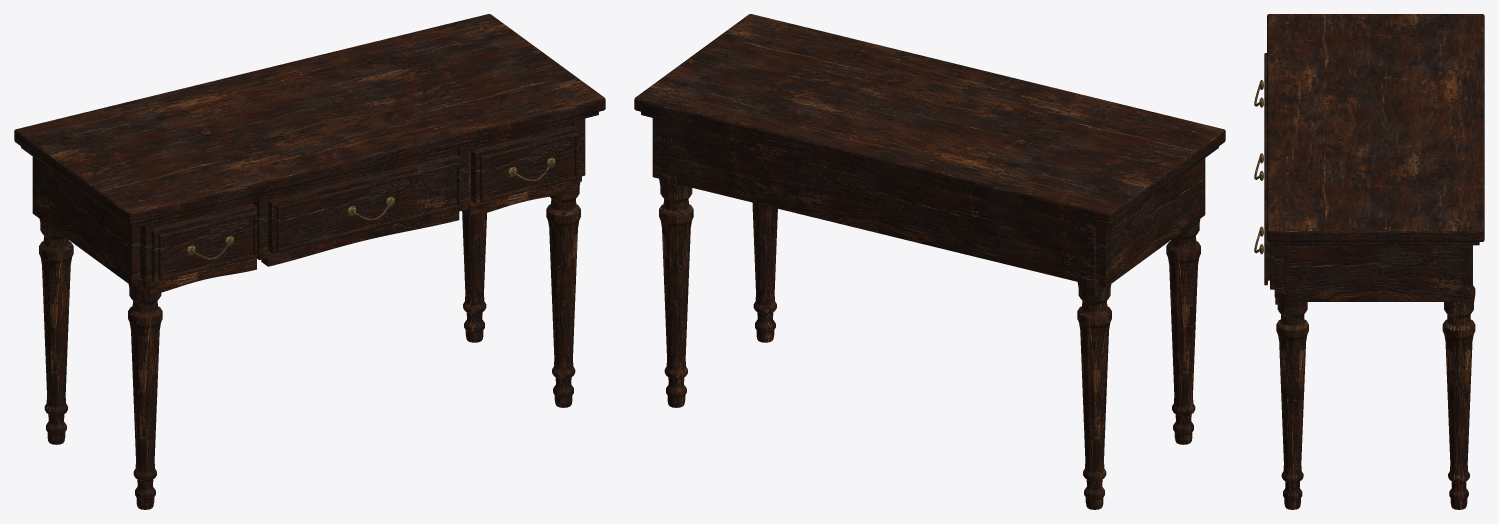
File: vanity_base.glb
3 renders of one model, left to right at view 1: azimuth 30°, elevation 25°; view 2: azimuth 150°, elevation 25°; view 3: azimuth 270°, elevation 25°, orthographic. The views are drawn at different scales.
Parts seen in each view (by area): view 1: VanityTabletop, VanityLegs, VanityDrawer_Middle, VanityCabinet, VanityDrawer_Right, VanityDrawer_Left, VanityScallopedApron; view 2: VanityTabletop, VanityCabinet, VanityLegs; view 3: VanityTabletop, VanityCabinet, VanityLegs, VanityDrawer_Right, VanityDrawer_Middle, VanityDrawer_Left.
Boxes of the visible parts, <box> form: VanityTabletop: <box>14,14,605,228</box>; VanityLegs: <box>39,182,580,509</box>; VanityDrawer_Middle: <box>268,153,460,253</box>; VanityCabinet: <box>32,118,585,287</box>; VanityDrawer_Right: <box>471,125,578,203</box>; VanityDrawer_Left: <box>151,203,257,282</box>; VanityScallopedApron: <box>147,180,577,295</box>; VanityTabletop: <box>634,14,1225,228</box>; VanityCabinet: <box>652,118,1205,287</box>; VanityLegs: <box>659,173,1200,509</box>; VanityTabletop: <box>1267,14,1484,245</box>; VanityCabinet: <box>1274,245,1472,301</box>; VanityLegs: <box>1276,285,1475,509</box>; VanityDrawer_Right: <box>1254,199,1274,289</box>; VanityDrawer_Middle: <box>1254,107,1266,199</box>; VanityDrawer_Left: <box>1254,53,1266,107</box>.
Size of the model in its own units: 1.3 by 0.807 by 0.582.
Materials: 2 (2 with a texture image).
